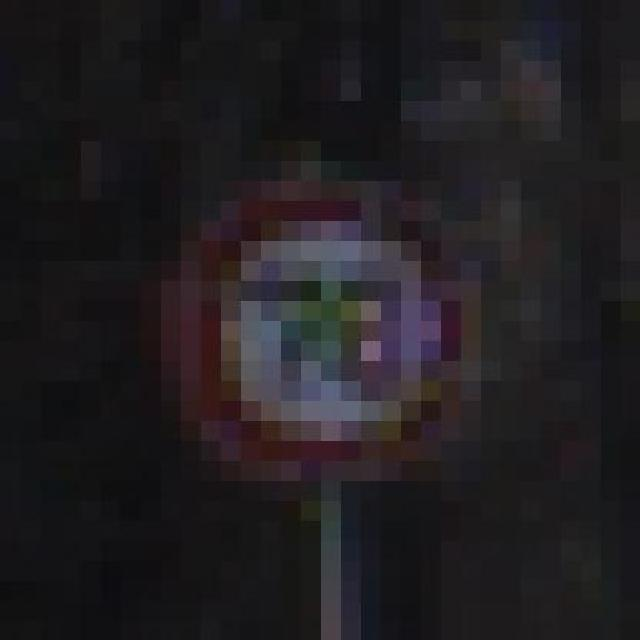forb_speed_over_70: (196, 199, 464, 468)
